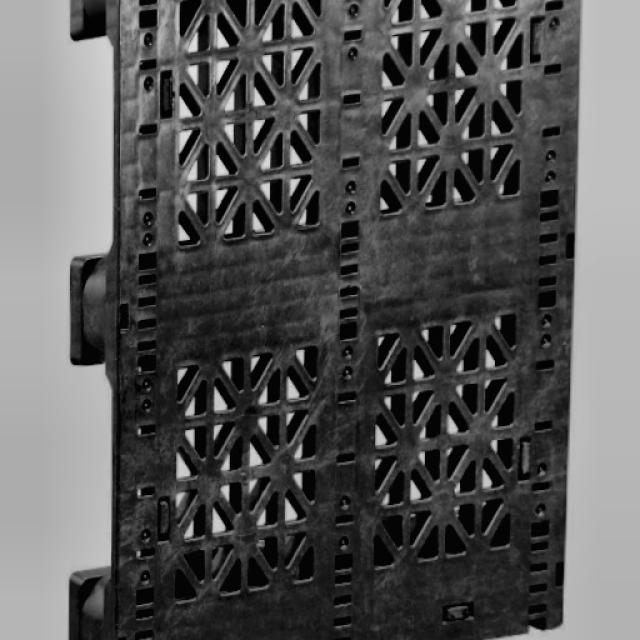non-igps: (52, 0, 592, 640)
